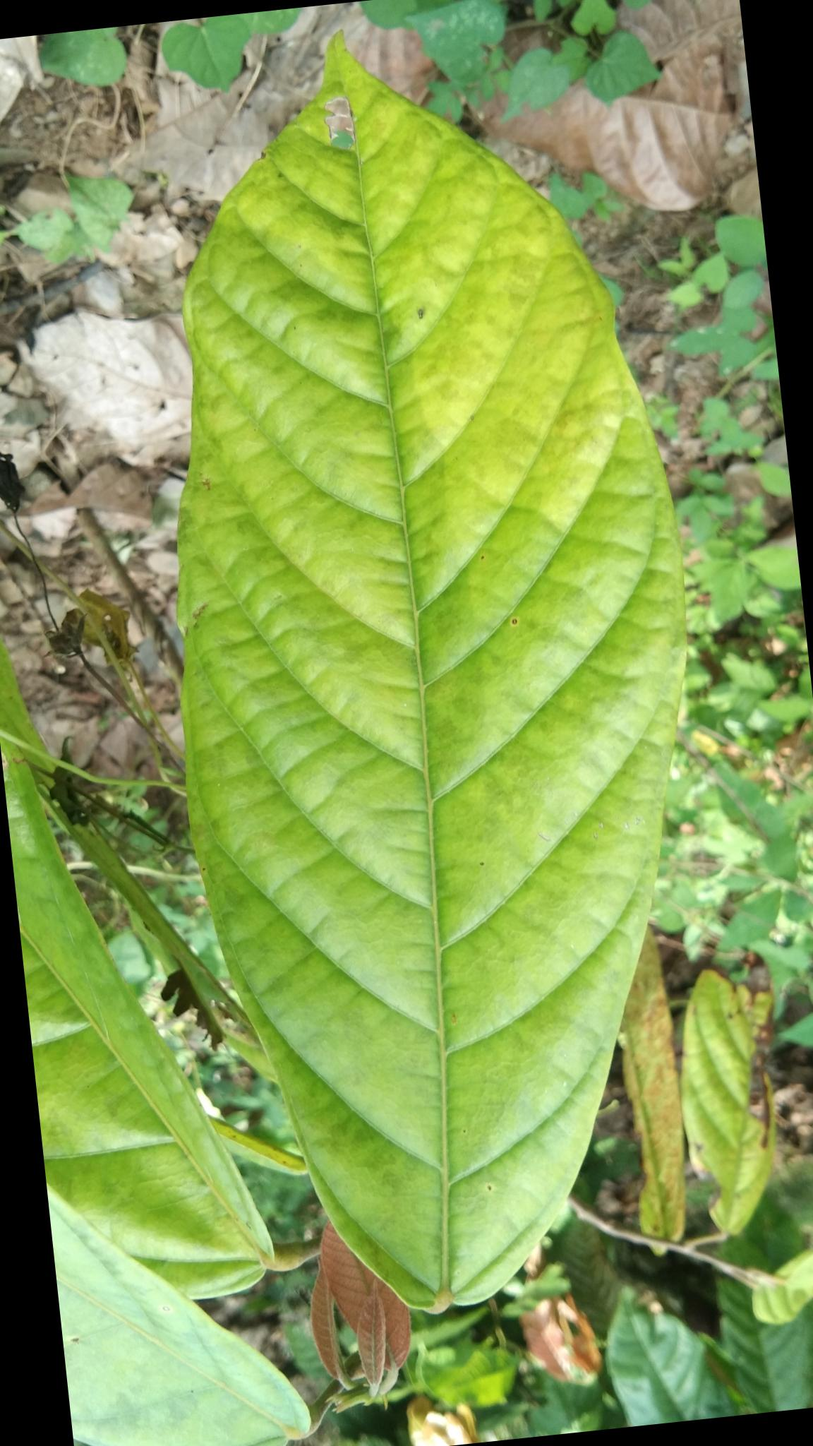Fosforo: (185, 105, 712, 1330)
